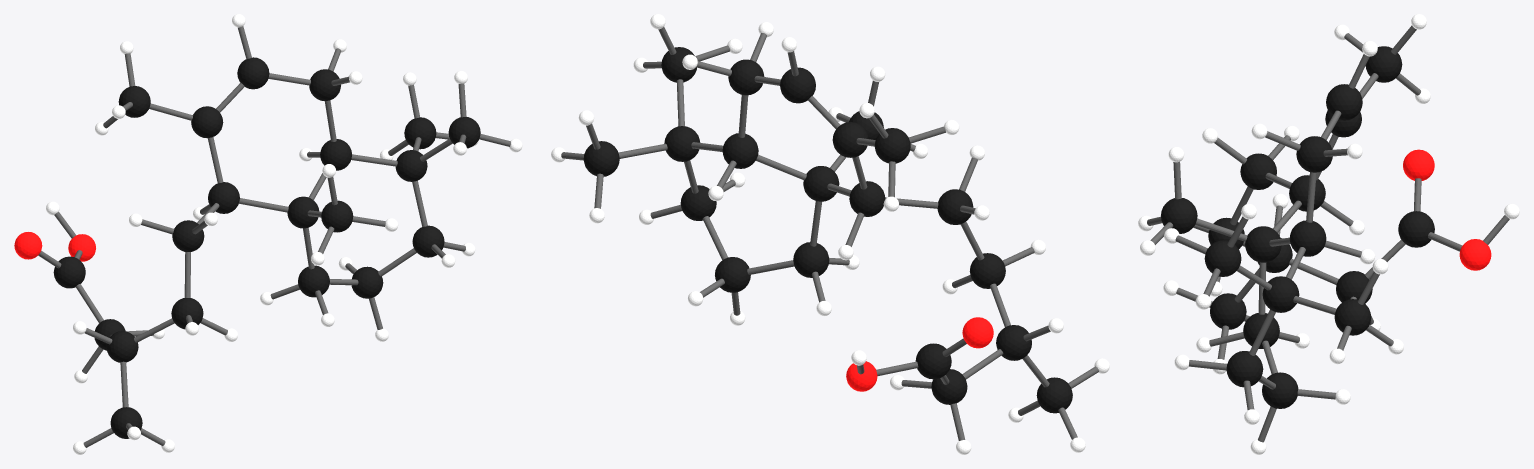
File: molecule.glb
3 views of the same model, side by side, from view 1: azimuth 30°, elevation 25°; view 2: azimuth 150°, elevation 25°; view 3: azimuth 270°, elevation 25° (orthographic). The views are drawn at different scales.
Visible parts, largest first — view 1: geometry_2, geometry_1, geometry_19, geometry_5, geometry_16, geometry_9, geometry_12, geometry_10, geometry_8, geometry_13, geometry_3, geometry_14 (+9 smaller); view 2: geometry_19, geometry_2, geometry_15, geometry_10, geometry_0, geometry_4, geometry_17, geometry_9, geometry_5, geometry_6, geometry_16, geometry_13 (+9 smaller); view 3: geometry_19, geometry_17, geometry_8, geometry_2, geometry_4, geometry_5, geometry_3, geometry_7, geometry_6, geometry_14, geometry_11, geometry_9 (+10 smaller).
Part boxes in pixels (left/top/right/bottom): geometry_2: left=237, top=57, right=269, bottom=89; geometry_1: left=191, top=106, right=223, bottom=137; geometry_19: left=53, top=256, right=85, bottom=288; geometry_5: left=395, top=150, right=427, bottom=181; geometry_16: left=106, top=331, right=138, bottom=362; geometry_9: left=351, top=266, right=383, bottom=298; geometry_12: left=321, top=200, right=353, bottom=232; geometry_10: left=298, top=265, right=329, bottom=297; geometry_8: left=412, top=225, right=444, bottom=257; geometry_13: left=208, top=182, right=239, bottom=213; geometry_3: left=309, top=69, right=340, bottom=100; geometry_14: left=172, top=220, right=204, bottom=251; geometry_19: left=915, top=343, right=951, bottom=379; geometry_2: left=780, top=67, right=815, bottom=103; geometry_15: left=969, top=253, right=1005, bottom=288; geometry_10: left=793, top=242, right=829, bottom=277; geometry_0: left=874, top=128, right=910, bottom=163; geometry_4: left=722, top=133, right=758, bottom=168; geometry_17: left=1036, top=377, right=1072, bottom=413; geometry_9: left=715, top=257, right=750, bottom=292; geometry_5: left=664, top=126, right=700, bottom=161; geometry_6: left=583, top=141, right=619, bottom=176; geometry_16: left=996, top=325, right=1031, bottom=360; geometry_13: left=849, top=181, right=885, bottom=216; geometry_19: left=1398, top=211, right=1434, bottom=247; geometry_17: left=1210, top=293, right=1246, bottom=329; geometry_8: left=1226, top=351, right=1263, bottom=387; geometry_2: left=1326, top=84, right=1362, bottom=120; geometry_4: left=1289, top=220, right=1326, bottom=256; geometry_5: left=1262, top=276, right=1299, bottom=312; geometry_3: left=1296, top=136, right=1332, bottom=172; geometry_7: left=1204, top=240, right=1241, bottom=276; geometry_6: left=1334, top=299, right=1371, bottom=335; geometry_14: left=1240, top=153, right=1276, bottom=189; geometry_11: left=1245, top=226, right=1281, bottom=262; geometry_9: left=1262, top=372, right=1298, bottom=408.
Size of the model in its own units: 0.257 by 0.1996 by 0.1691.
